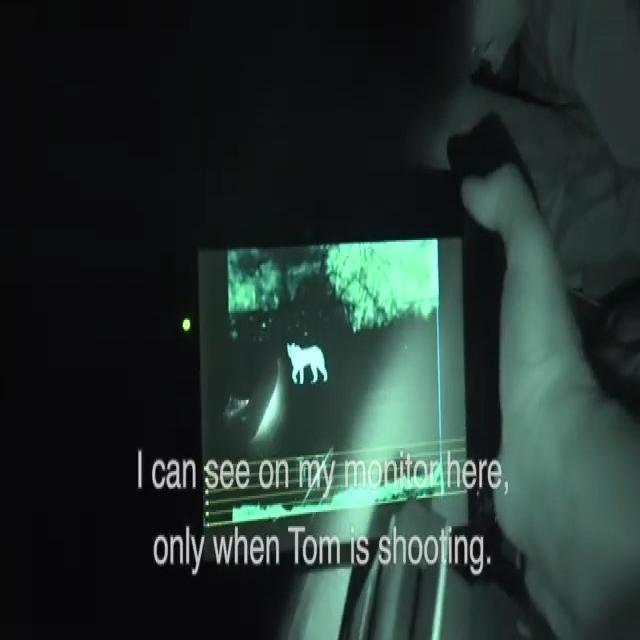animal: (270, 310, 338, 408)
device: (135, 156, 495, 576)
